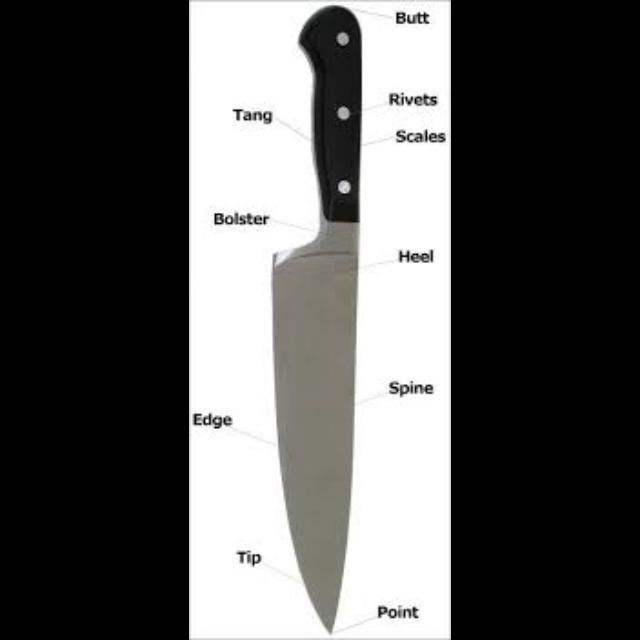Knife: (272, 4, 362, 634)
